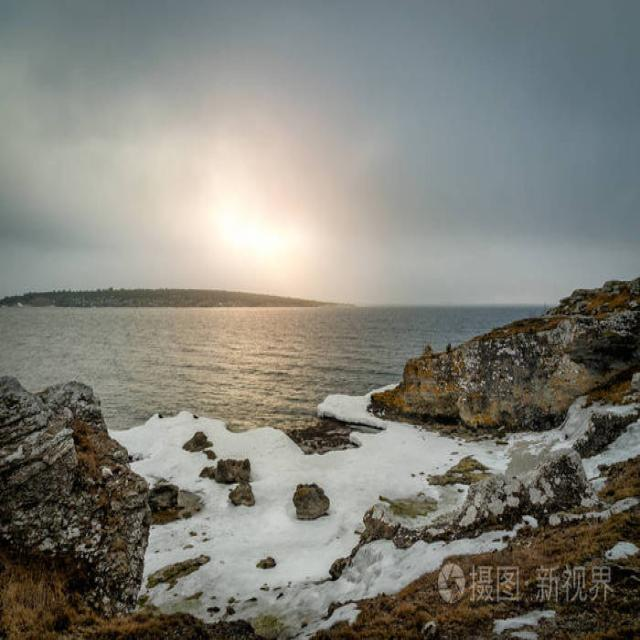reef: (0, 348, 250, 550), (365, 340, 640, 493)
